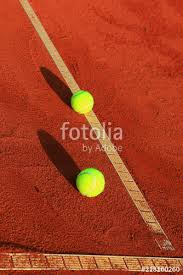tennis_ball: (75, 168, 105, 197), (70, 90, 94, 114)
